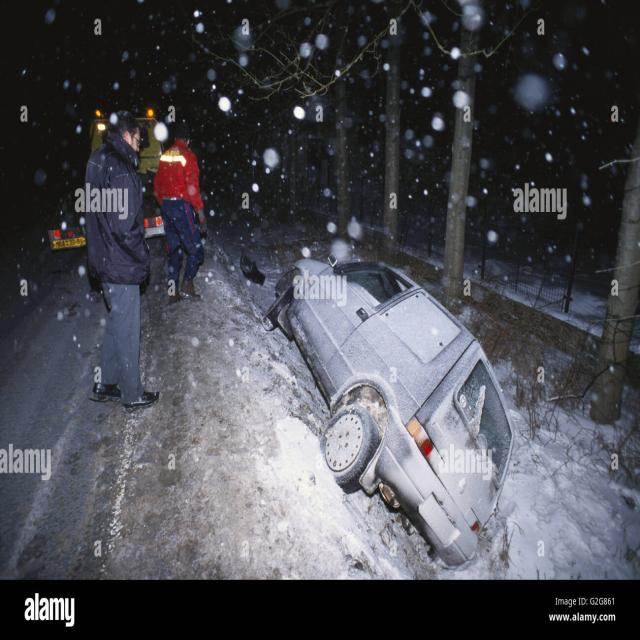Accident: (266, 247, 518, 567)
